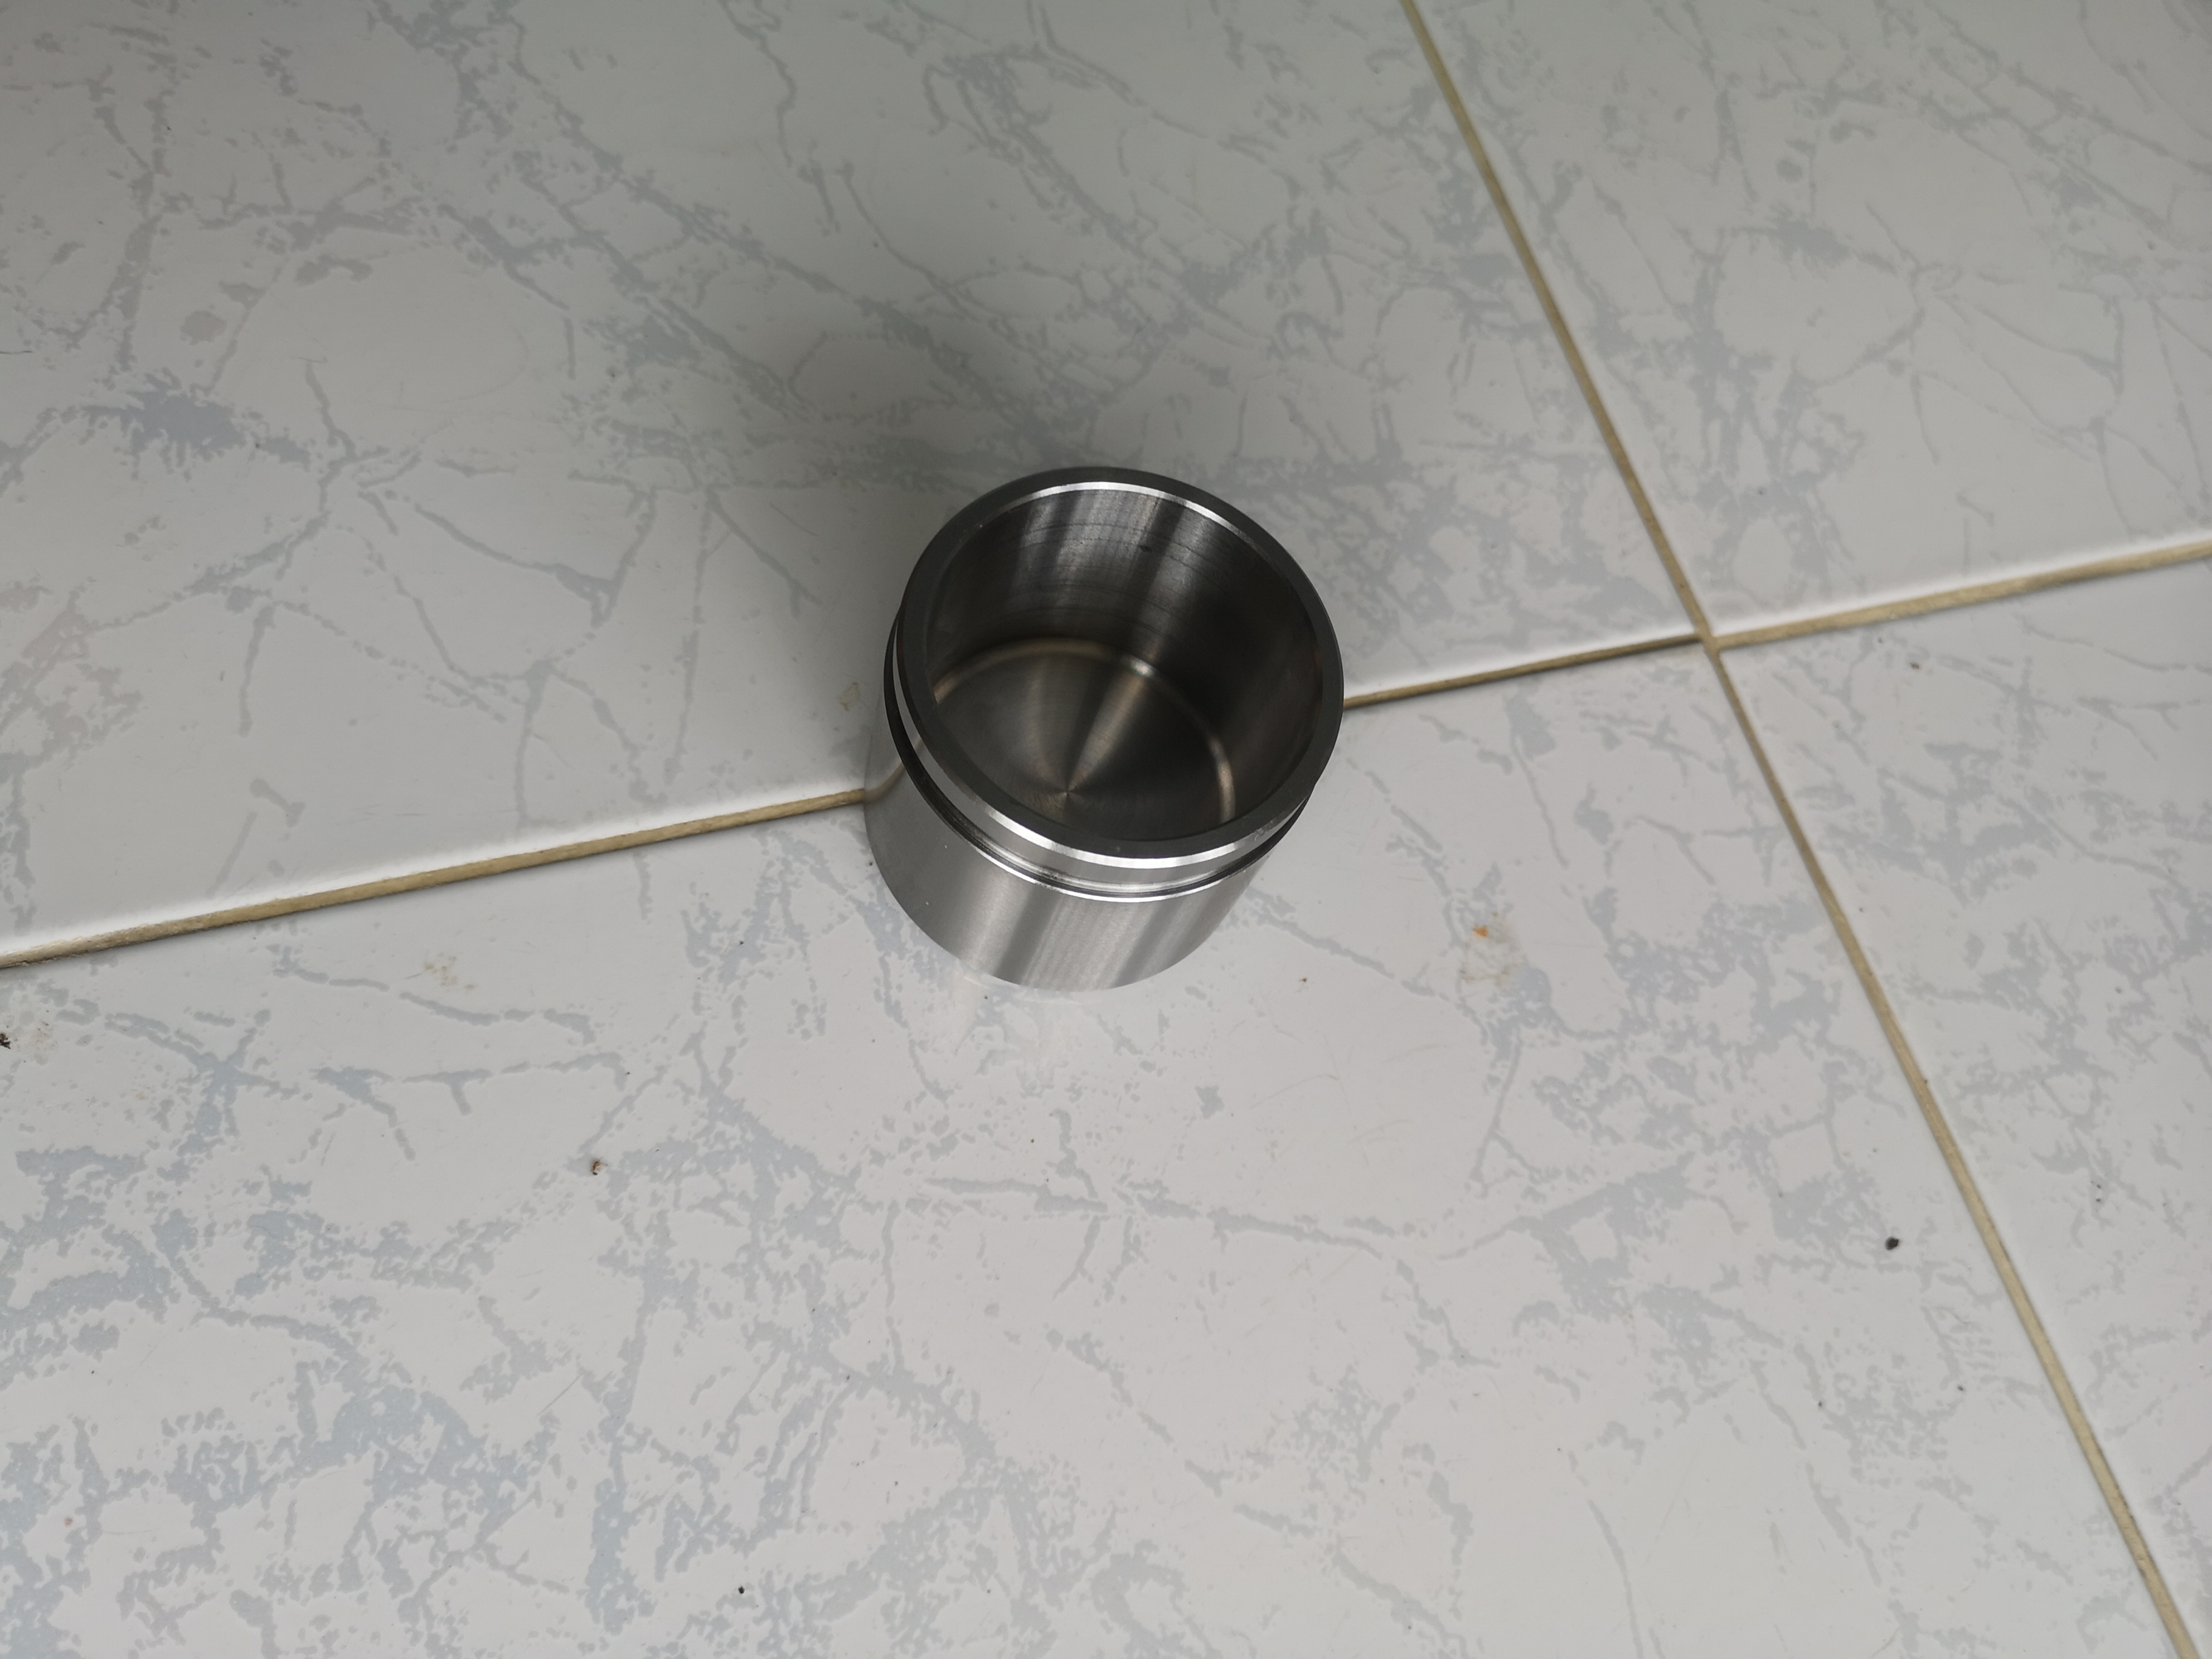ลูกสูบดิสเบรค: (742, 453, 1409, 1056)
